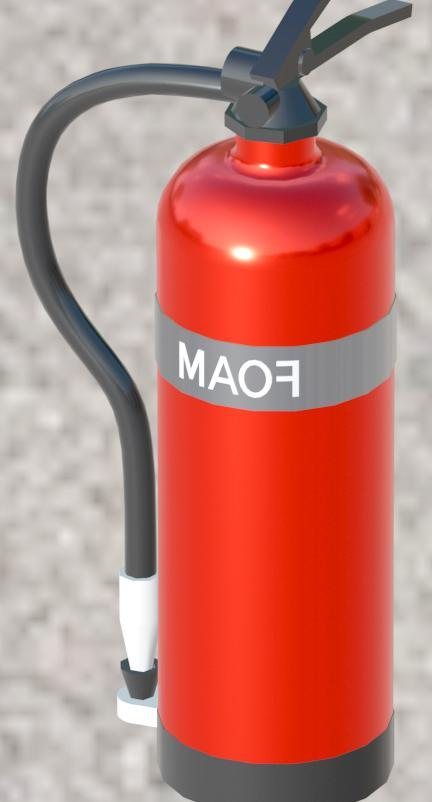Fire Extinguisher: (16, 12, 432, 802)
